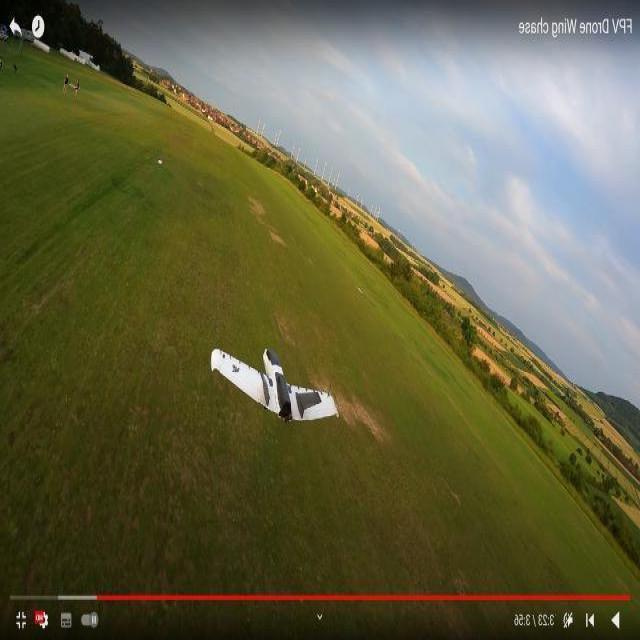iha: (211, 379, 340, 401)
